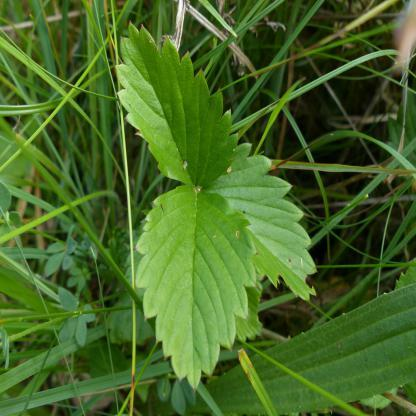Strawberry leaf: (138, 182, 260, 396), (108, 20, 242, 192), (223, 136, 324, 315)
